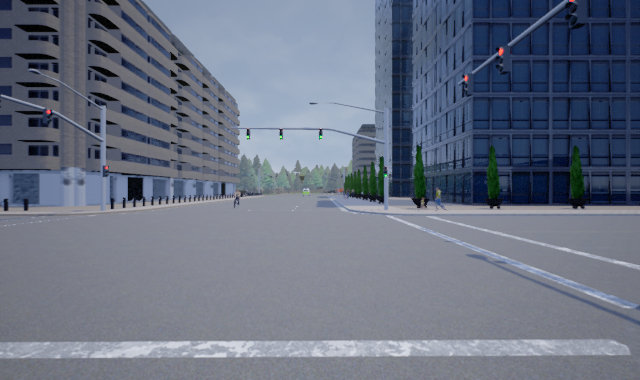bike: (233, 188, 242, 212)
pedestrian: (433, 185, 444, 211), (418, 196, 427, 211)
traffic_light: (564, 1, 589, 30), (495, 43, 512, 75), (462, 71, 474, 97), (41, 107, 53, 126), (102, 164, 110, 178), (245, 126, 251, 141), (278, 126, 284, 141), (318, 126, 324, 141), (382, 164, 388, 178)
vehicle: (302, 186, 310, 197)
